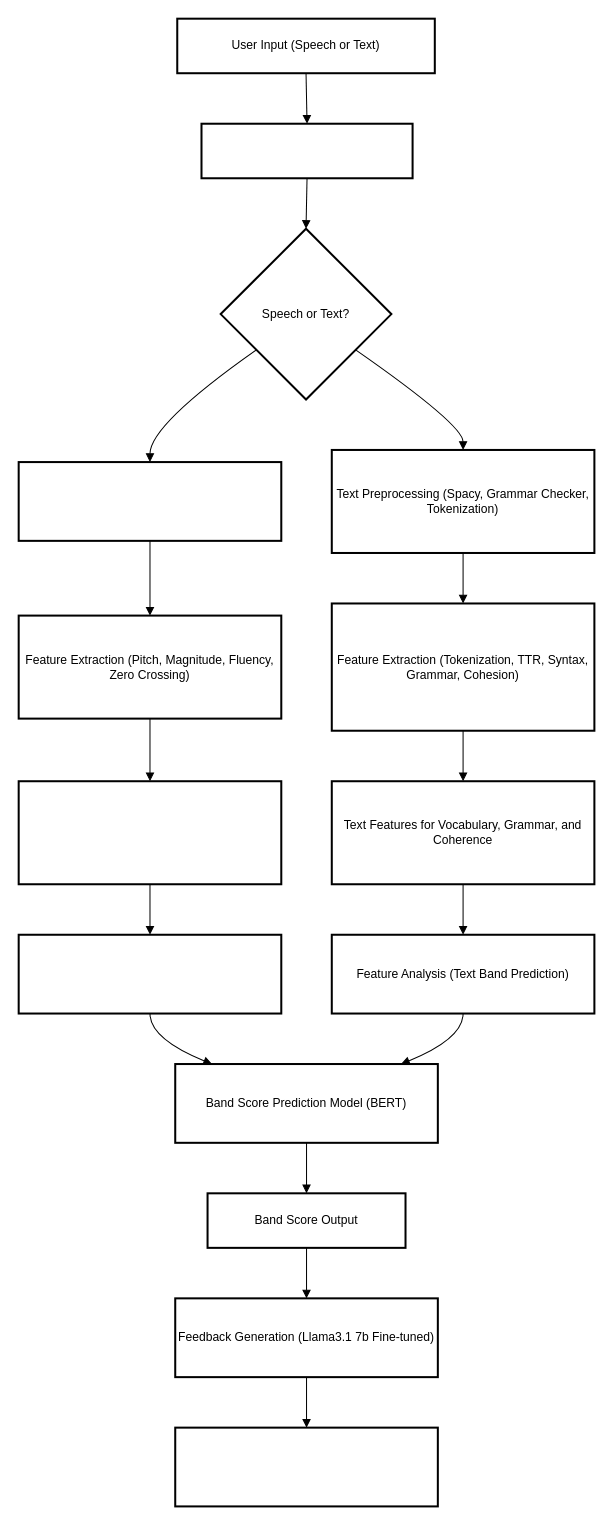
Image size: 612x1524. Some labels were removed from this diagram. The box of each missing label's shape, as (x1, y1, x2, y2) in pixels:
Band Score & Feedback to User: (174, 1426, 438, 1507)
Feature Analysis (Speech Band Prediction): (17, 933, 282, 1014)
Preprocessing Stage: (200, 122, 413, 179)
Speech Features for Fluency, Pronunciation, and Rate of Speech: (17, 780, 282, 885)
Speech Preprocessing (Whisper, Librosa): (17, 461, 282, 541)
